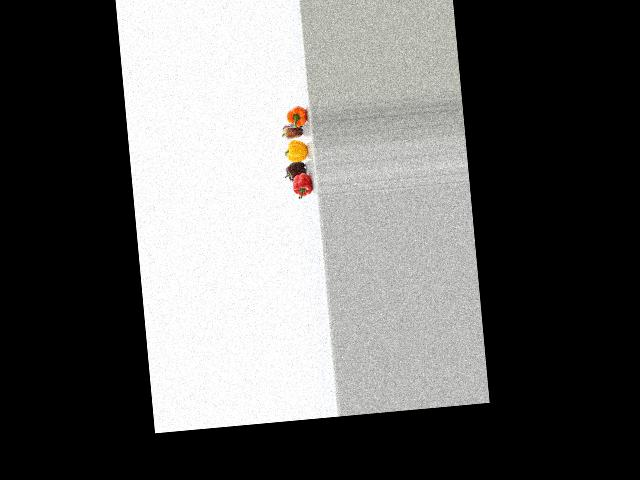bell_pepper: (279, 104, 310, 129)
